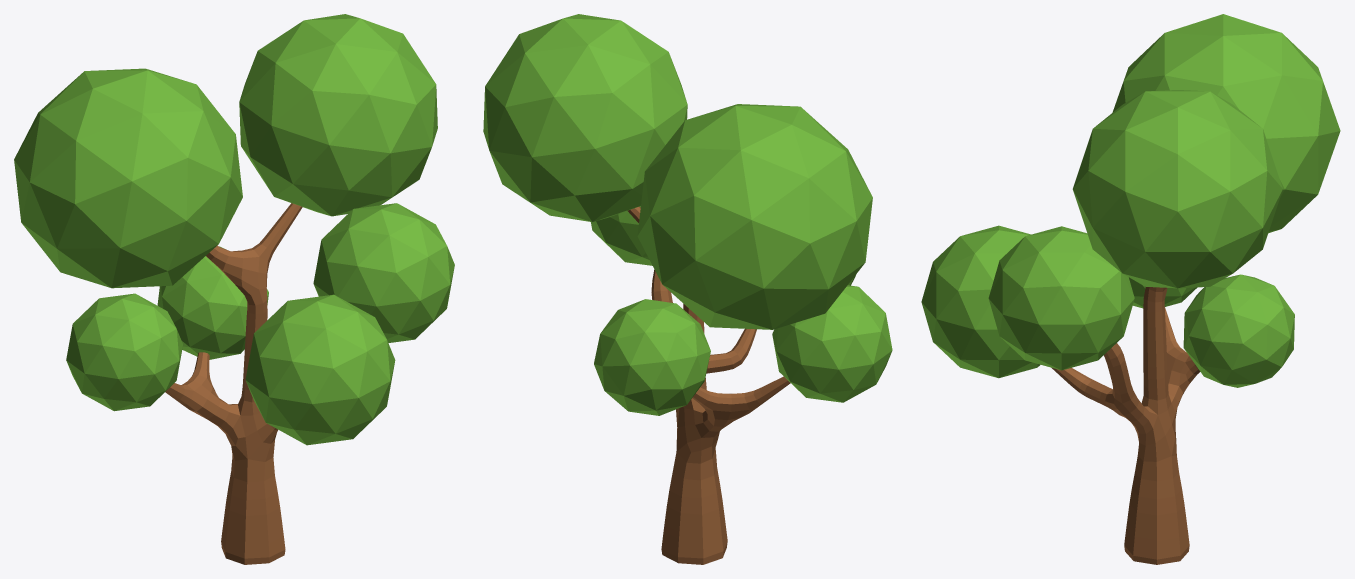
The model's file is tree1.fbx.
The picture shows the model from 3 angles, left to right: view 1: azimuth 30°, elevation 25°; view 2: azimuth 150°, elevation 25°; view 3: azimuth 270°, elevation 25°; orthographic projection. The views are drawn at different scales.
Visible parts, largest first — view 1: Tree_01.001; view 2: Tree_01.001; view 3: Tree_01.001.
Boxes of the visible parts, x1,y1,x2,y2 form: Tree_01.001: [14, 14, 454, 564]; Tree_01.001: [483, 14, 892, 564]; Tree_01.001: [921, 14, 1340, 564].
Size of the model in its own units: 1361 by 1727 by 1307.
